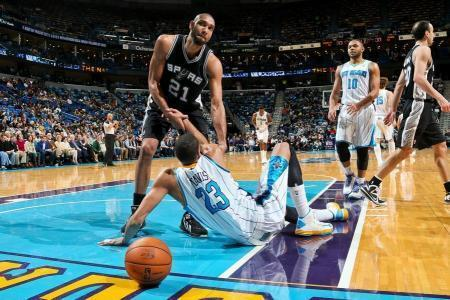10+: (1, 1, 448, 249)
down: (93, 102, 358, 249)
